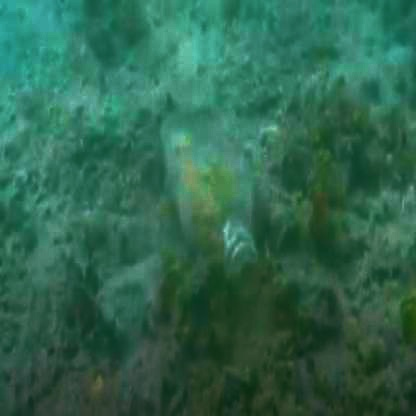pbottle: (210, 197, 281, 323)
